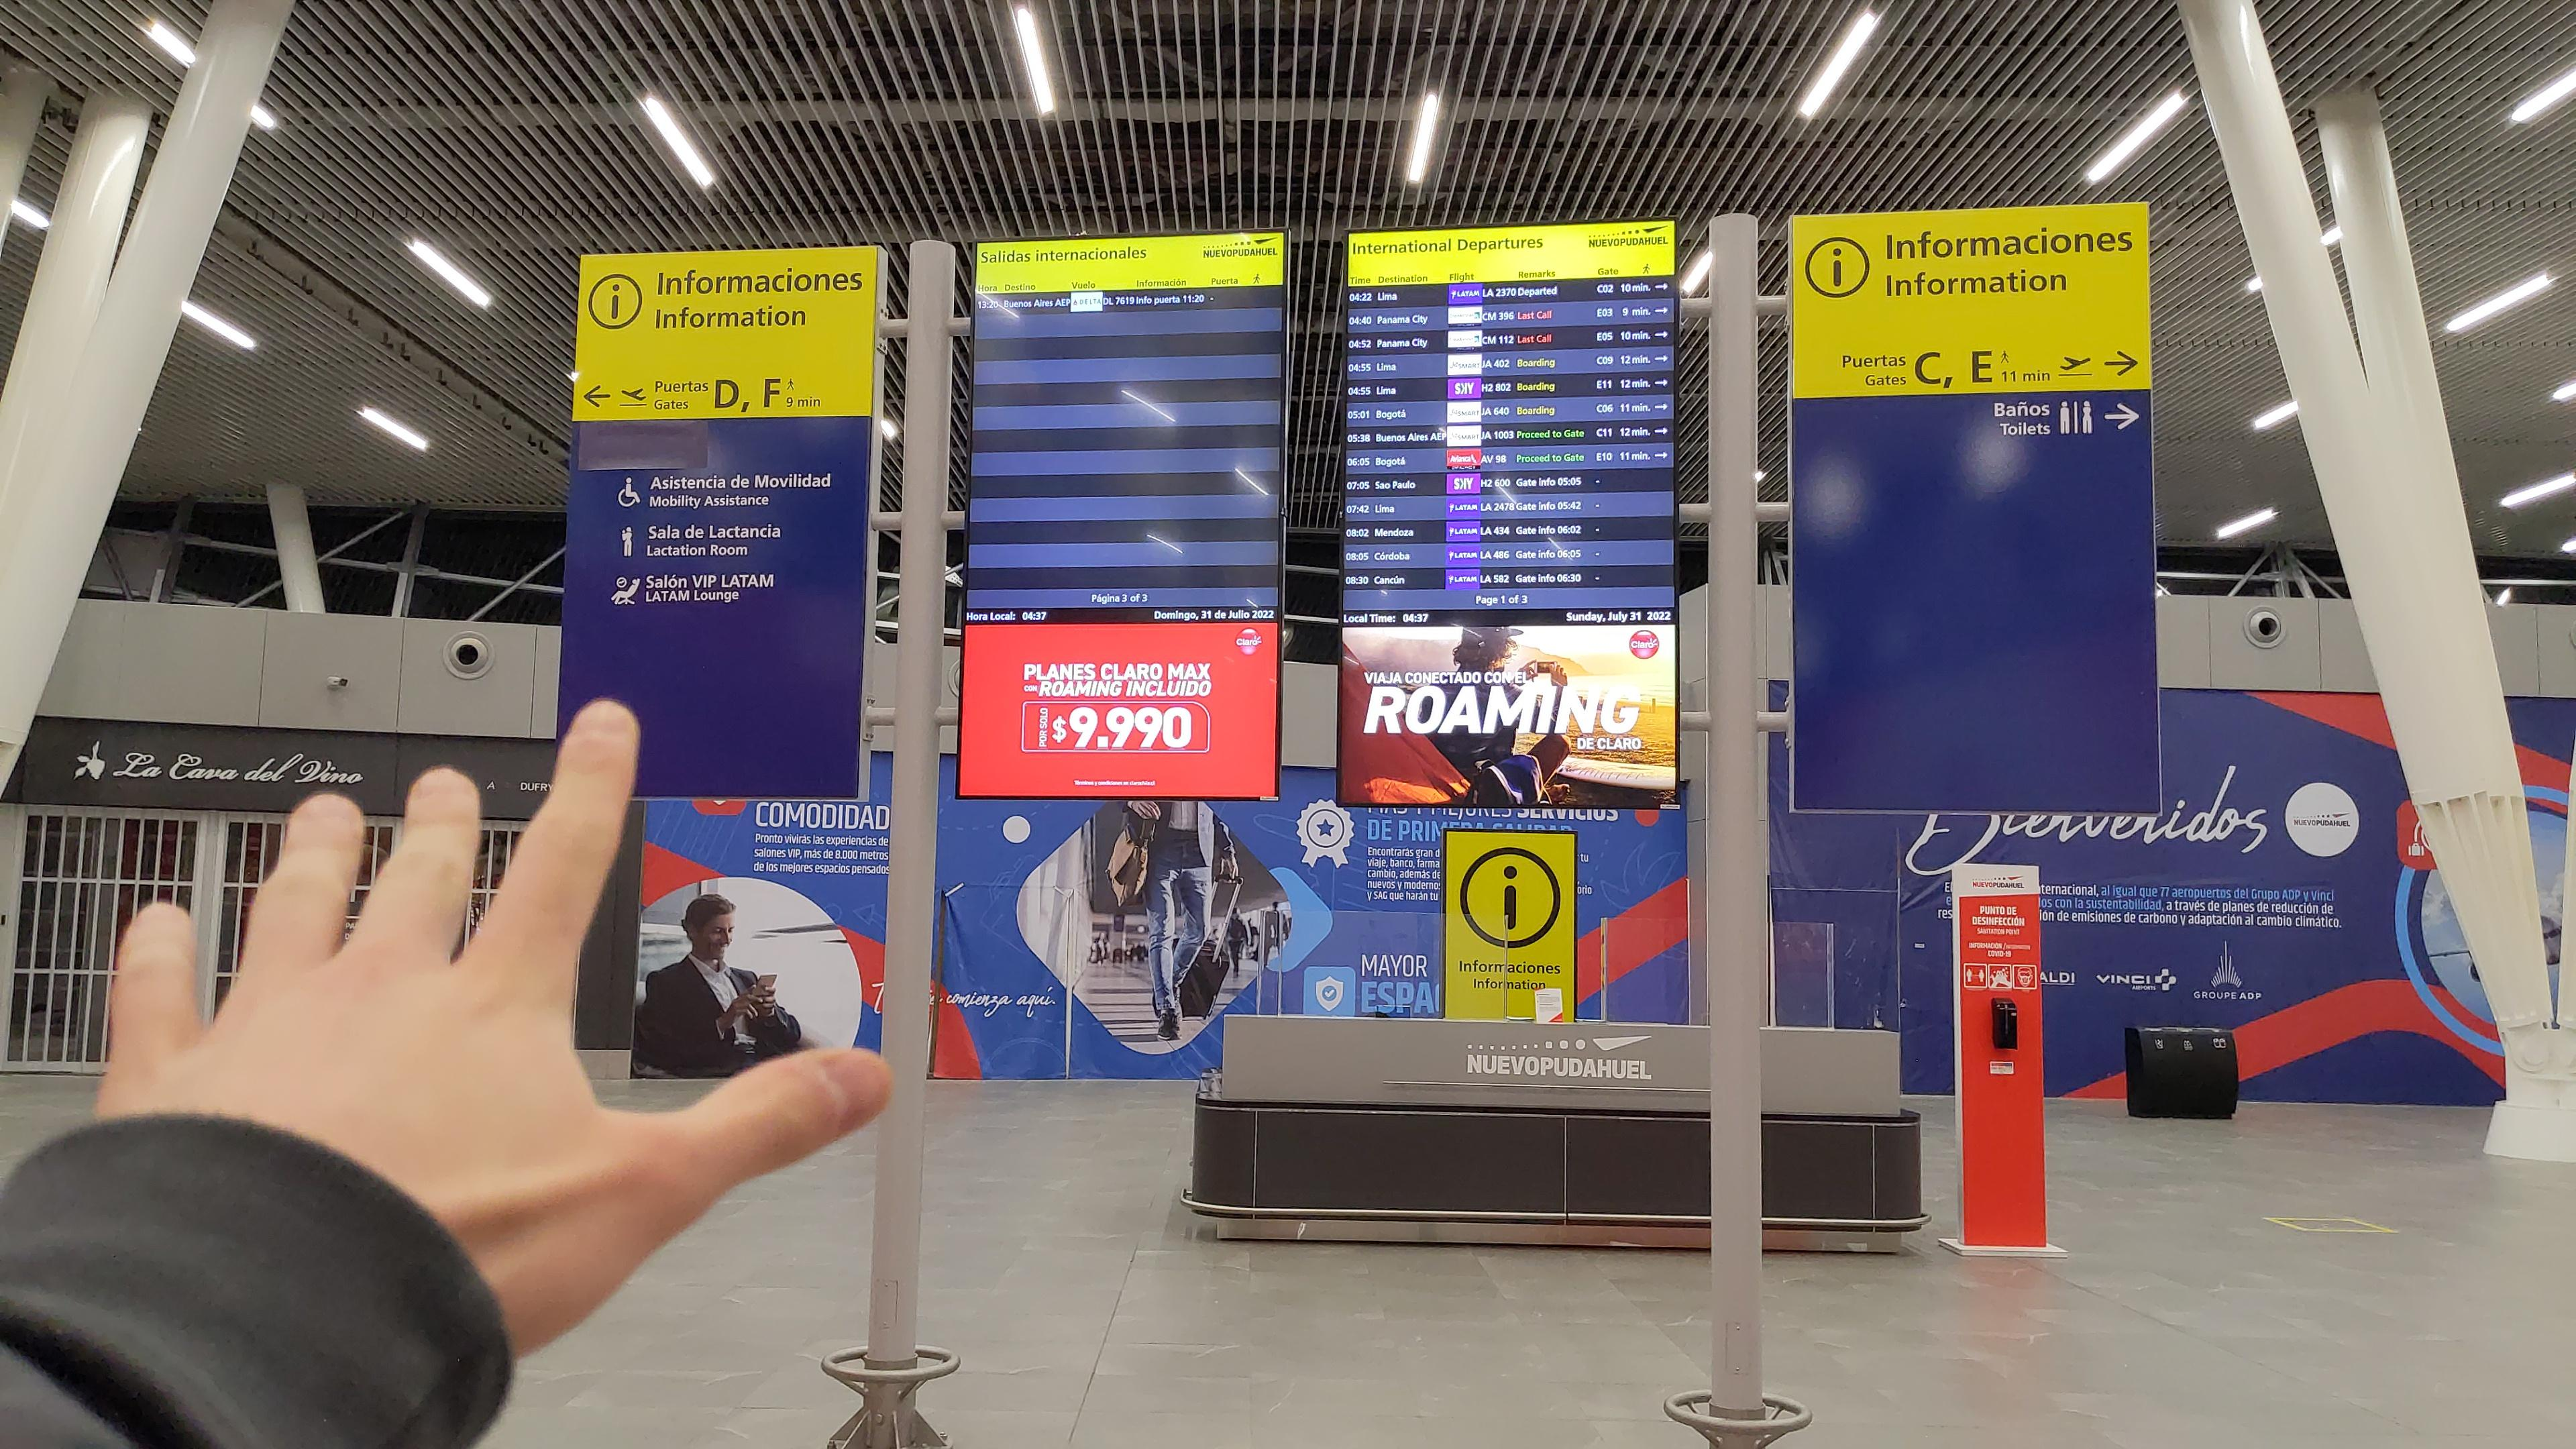airplane symbol: (2059, 352, 2093, 373), (621, 386, 648, 402)
bathrooms: (2058, 400, 2095, 435)
handicapped symbol: (616, 476, 642, 508)
thin left arrow: (582, 384, 612, 409)
thin right arrow: (2102, 402, 2141, 432), (2102, 349, 2139, 379)
